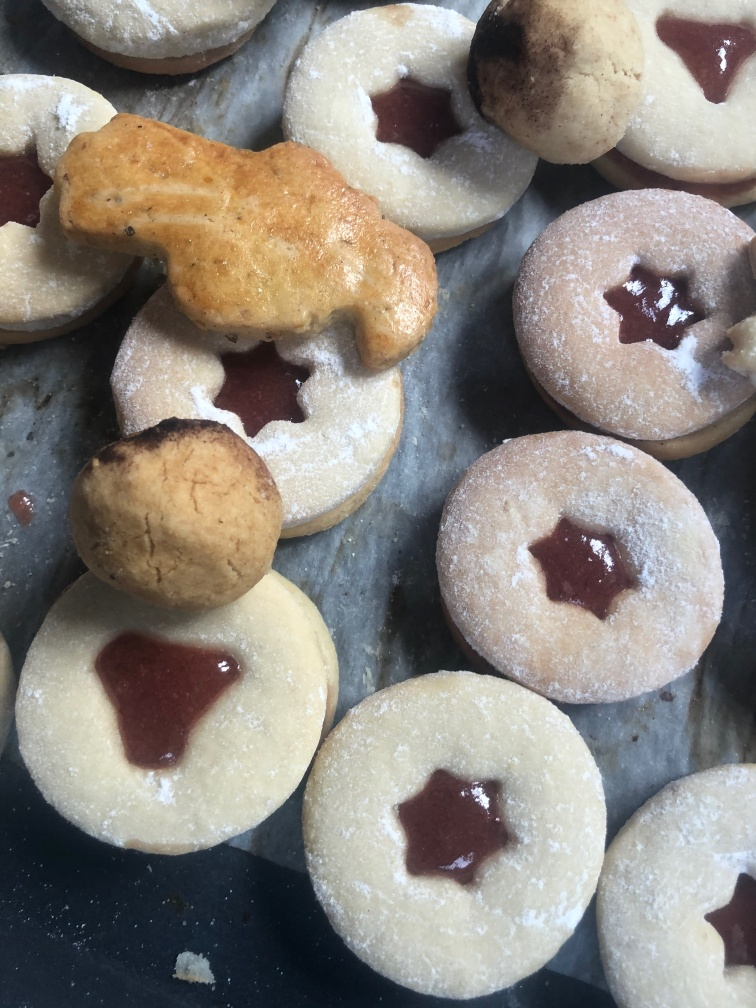christmas shortbread with jam: (308, 658, 604, 1008), (4, 596, 341, 866), (435, 429, 727, 703), (110, 265, 408, 533), (512, 188, 752, 466), (283, 3, 520, 220), (601, 760, 756, 1008), (3, 71, 129, 329), (633, 4, 756, 189)
santa claus: (48, 106, 446, 377)
snowball: (65, 416, 285, 615), (470, 1, 644, 166)
